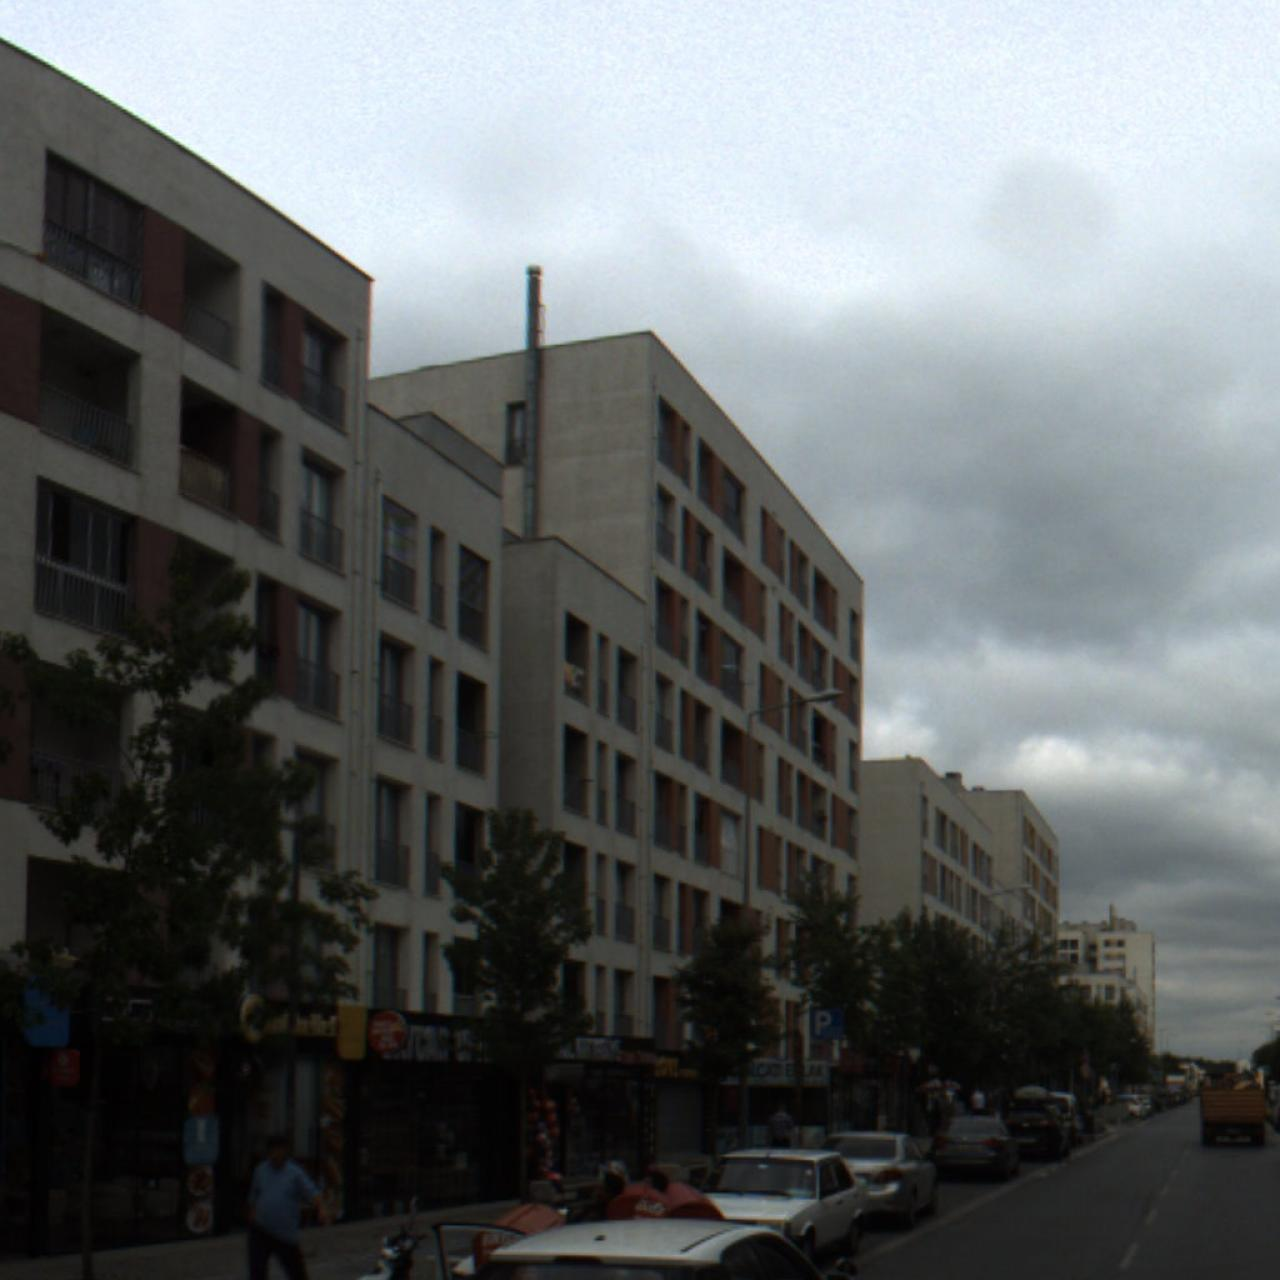SignStore: (16, 978, 236, 1047), (237, 994, 368, 1060), (366, 1008, 499, 1068), (547, 1034, 653, 1067), (720, 1057, 828, 1089), (654, 1050, 703, 1080)
